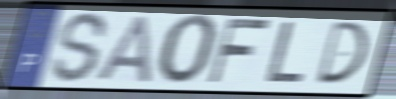A: (93, 13, 154, 85)
D: (313, 19, 370, 86)
F: (205, 16, 274, 85)
L: (263, 19, 308, 84)
O: (155, 13, 222, 87)
S: (48, 9, 111, 85)
